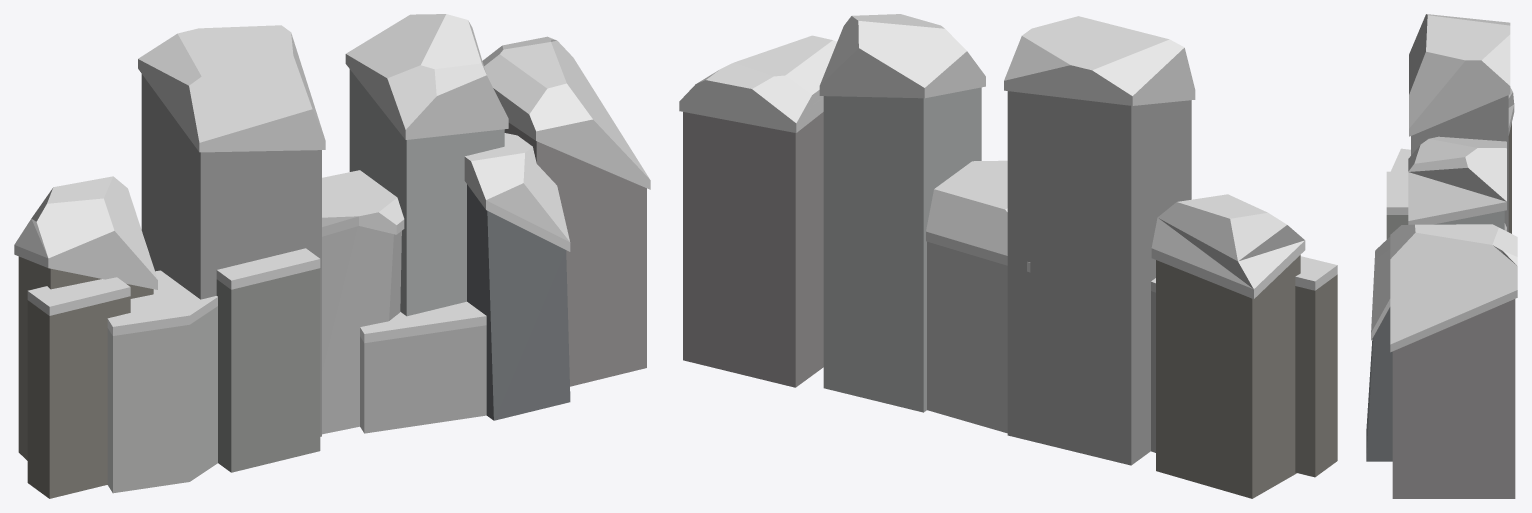
Rendered from Rock_Wall_07.fbx.
The picture shows the model from 3 angles, left to right: view 1: azimuth 30°, elevation 25°; view 2: azimuth 150°, elevation 25°; view 3: azimuth 270°, elevation 25°; orthographic projection. The views are drawn at different scales.
Parts seen in each view (by area): view 1: Rock_Wall_07; view 2: Rock_Wall_07; view 3: Rock_Wall_07.
Boxes of the visible parts, box(x1,y1,x2,y2) form: Rock_Wall_07: box(14, 14, 650, 498); Rock_Wall_07: box(679, 14, 1337, 498); Rock_Wall_07: box(1366, 14, 1517, 498).
Size of the model in its own units: 1232 by 767 by 335.
